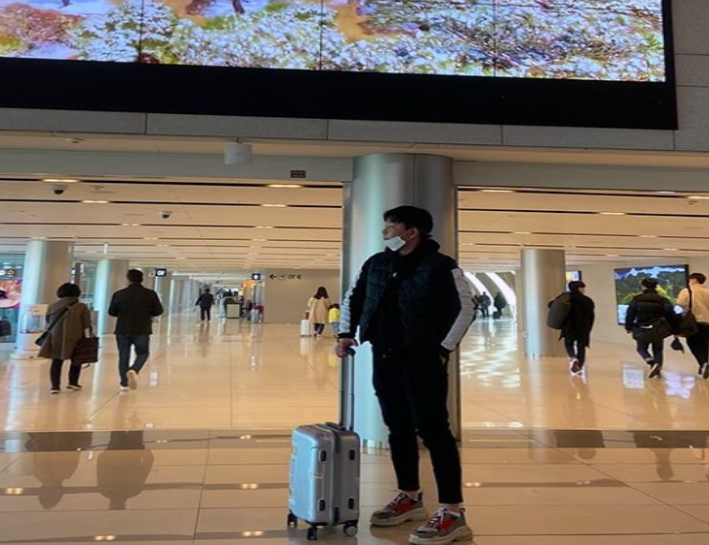mask_weared_incorrect: (377, 203, 430, 256)
